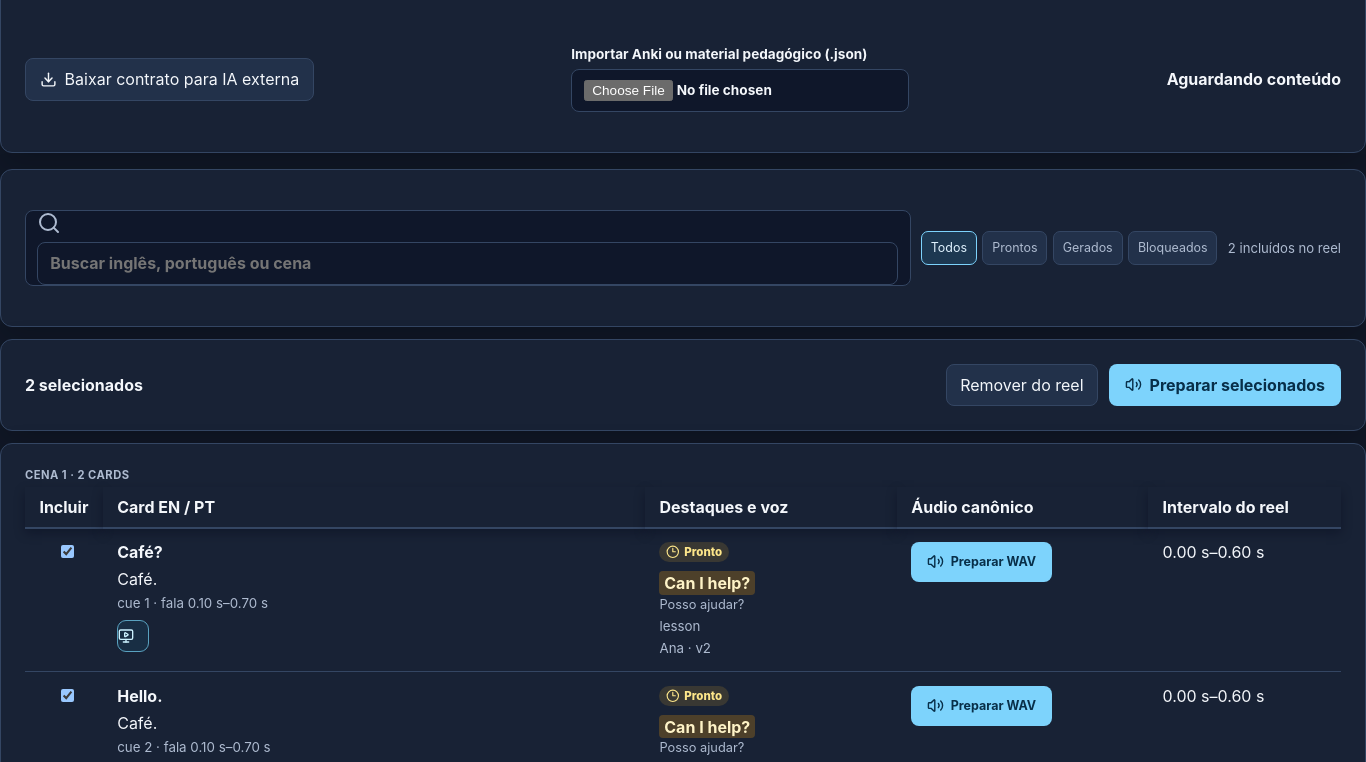
Scenario: MaterialsPage › enqueues each selected WAV individually and prevents duplicate submissions
(page scrolled)
Click the button "Preparar selecionados": coordinates (1225, 385) left=1108, top=364, right=1341, bottom=406
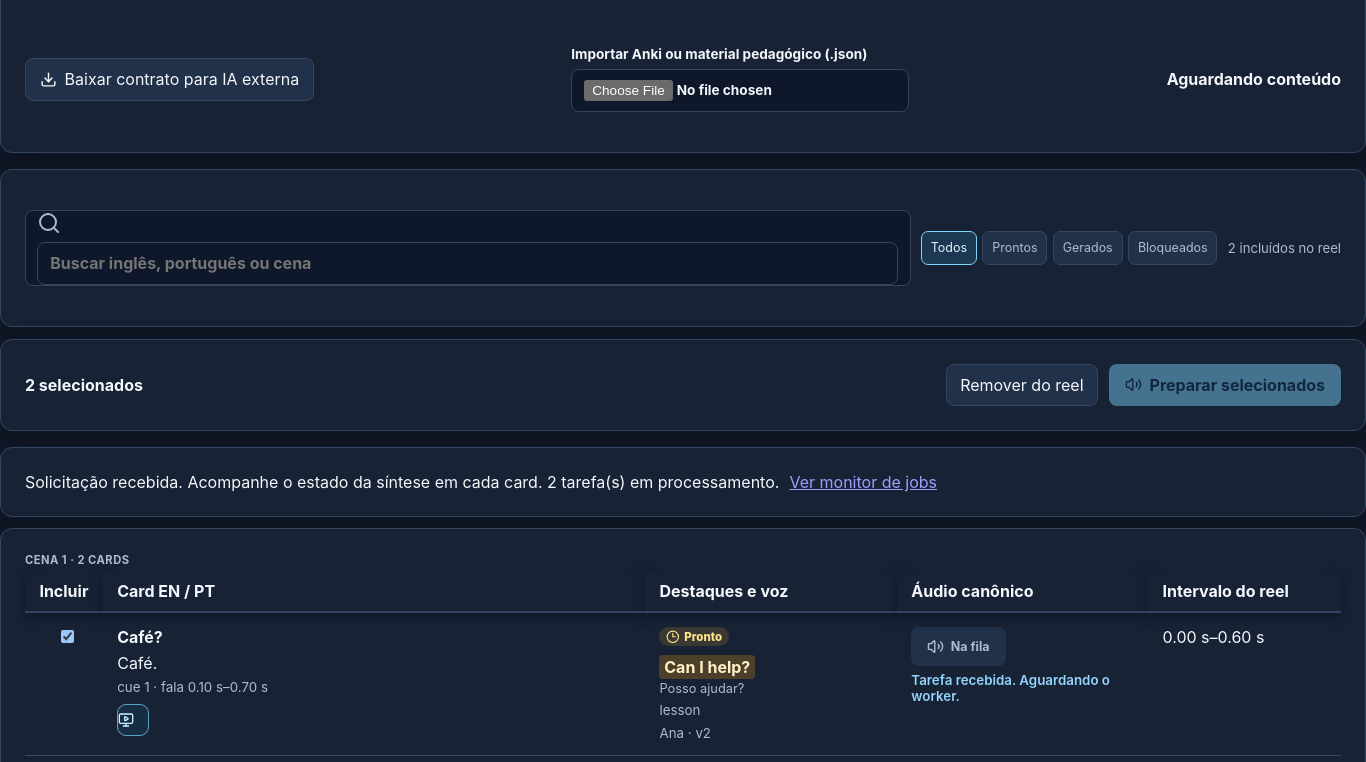
expect the button "Preparar selecionados" is disabled: met, box left=1108, top=364, right=1341, bottom=406
